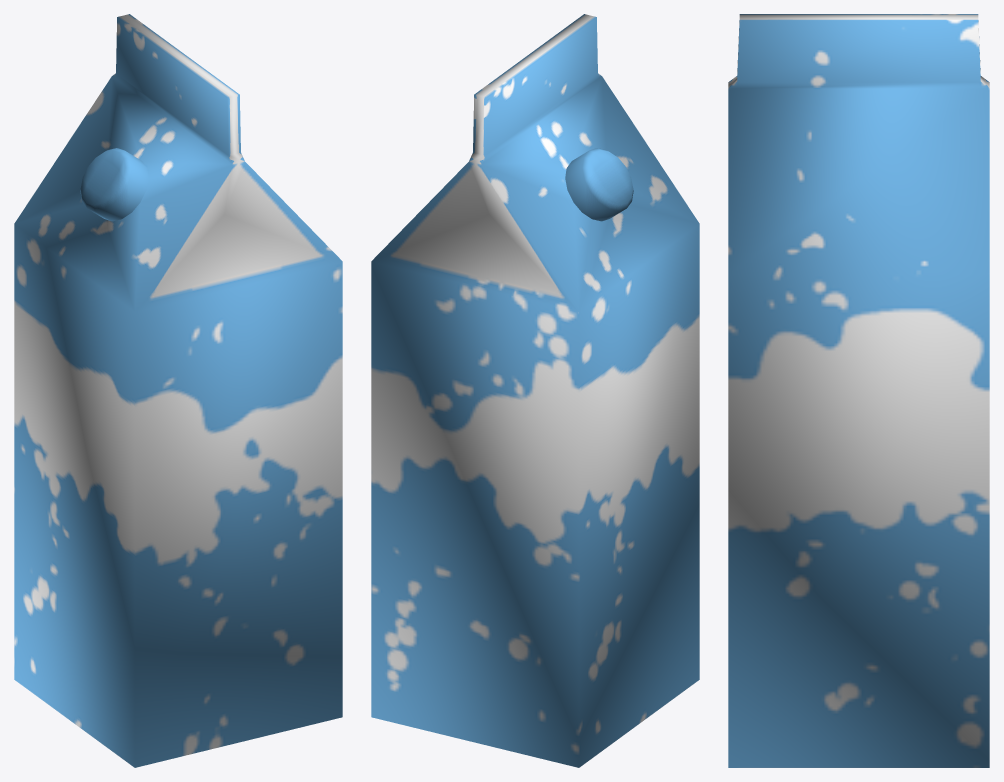
The model's file is milk.glb.
3 renders of one model, left to right at view 1: azimuth 30°, elevation 25°; view 2: azimuth 150°, elevation 25°; view 3: azimuth 270°, elevation 25°, orthographic. The views are drawn at different scales.
Visible parts, largest first — view 1: milk, milk.001; view 2: milk, milk.001; view 3: milk.
Boxes of the visible parts, box(x1,y1,x2,y2) form: milk: box(14, 14, 342, 767); milk.001: box(80, 148, 148, 221); milk: box(371, 14, 699, 767); milk.001: box(565, 148, 633, 221); milk: box(728, 14, 989, 767).
Size of the model in its own units: 0.1732 by 0.5116 by 0.1742.
1 material, 1 textured.
